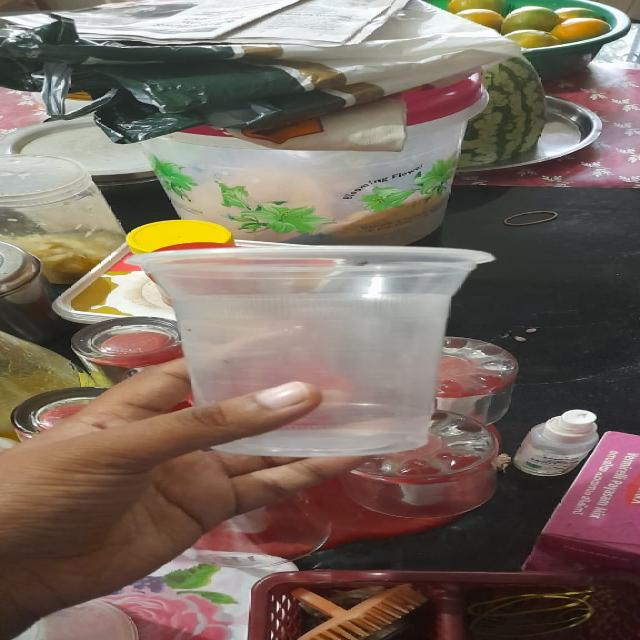Plastic - Recyclable: (123, 243, 498, 457)
